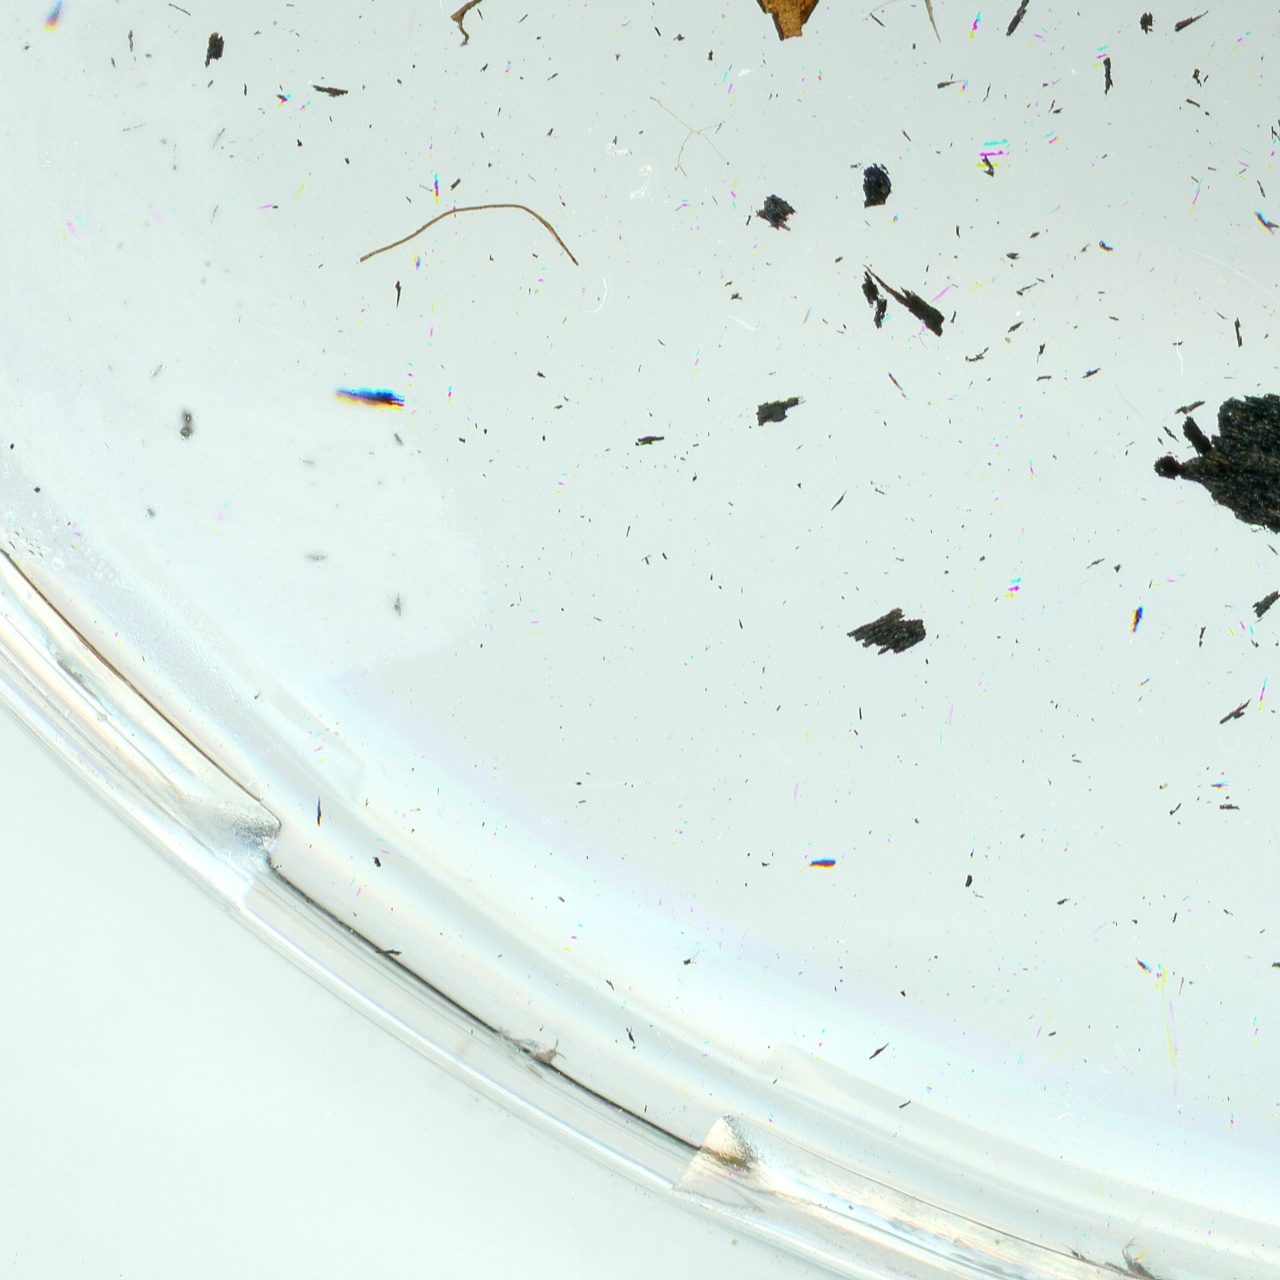arthropod: (1115, 1234, 1163, 1280), (529, 1029, 572, 1074)
